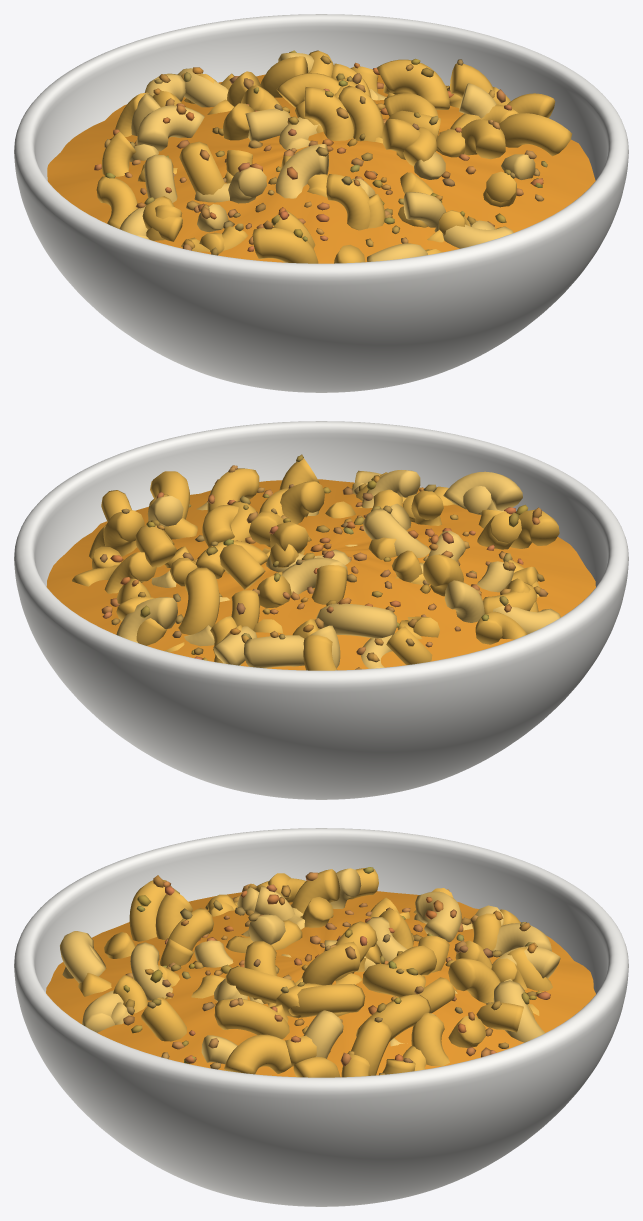
The model's file is mac-cheese.glb.
3 views of the same model, one above another, from view 1: azimuth 30°, elevation 25°; view 2: azimuth 150°, elevation 25°; view 3: azimuth 270°, elevation 25° (orthographic).
Visible parts, largest first — view 1: base, macaroni, mac-sauce, breadcrumbs; view 2: base, macaroni, mac-sauce, breadcrumbs; view 3: base, macaroni, mac-sauce, breadcrumbs.
Boxes of the visible parts, x1,y1,x2,y2 form: base: [14, 14, 628, 392]; macaroni: [96, 50, 572, 263]; mac-sauce: [47, 74, 595, 263]; breadcrumbs: [94, 50, 547, 255]; base: [14, 421, 628, 799]; macaroni: [72, 458, 560, 670]; mac-sauce: [46, 479, 595, 670]; breadcrumbs: [100, 454, 548, 669]; base: [14, 828, 628, 1206]; macaroni: [60, 868, 560, 1077]; mac-sauce: [46, 891, 595, 1077]; breadcrumbs: [123, 867, 550, 1075].
Bounding box in the file's own units: 0.1498 × 0.0607 × 0.1498.
